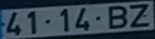1: (58, 7, 69, 33), (26, 10, 36, 35)
4: (73, 6, 91, 32), (5, 11, 22, 37)
B: (106, 4, 128, 30)
Z: (127, 2, 150, 29)
